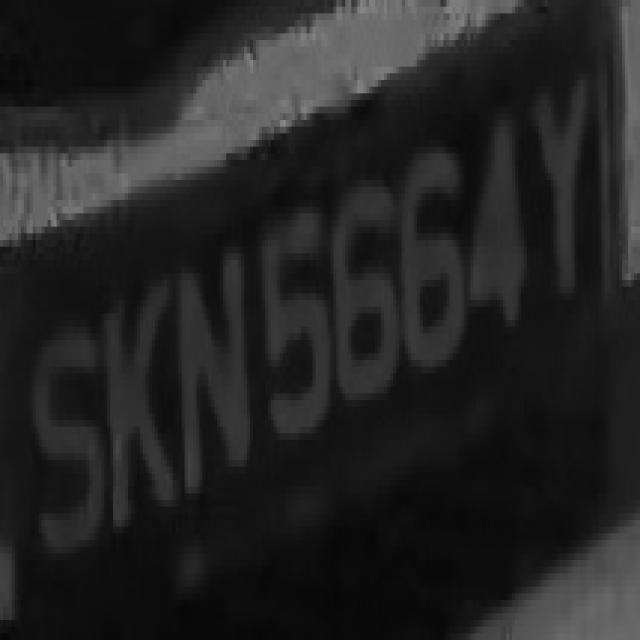4: (464, 126, 533, 366)
5: (250, 193, 327, 460)
6: (396, 134, 476, 394), (324, 160, 396, 420)
K: (104, 293, 182, 547)
N: (167, 246, 262, 486)
S: (15, 294, 110, 554)
Y: (524, 80, 610, 313)
